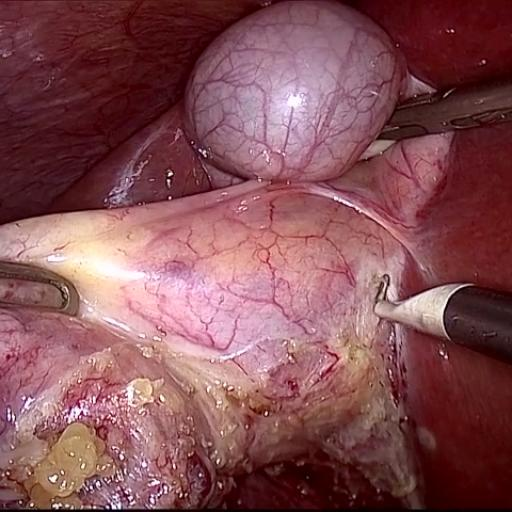Grasper: (312, 53, 512, 186), (0, 235, 128, 340)
Hook: (366, 232, 476, 367)
